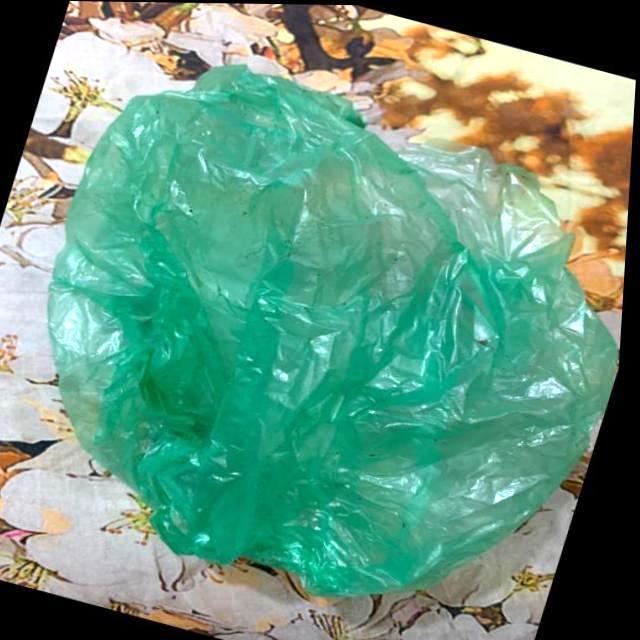polythene: (105, 114, 506, 534)
